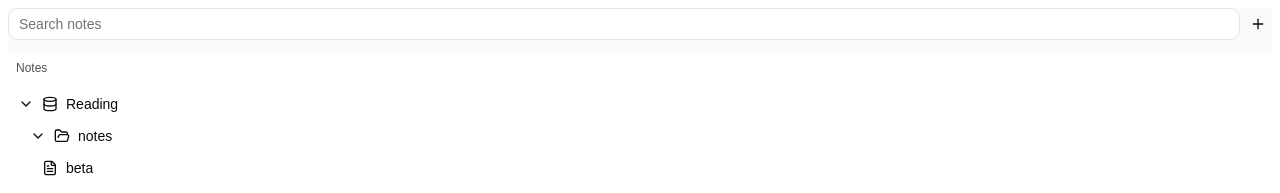
Test: NotesSidebar › collapses folders when there is no search query
This screenshot has width=1280, height=193.
Expected: the link "beta" is shown, [42,160,93,176]
Click the button "notes".
click(95, 136)  # box [8,120,1272,152]
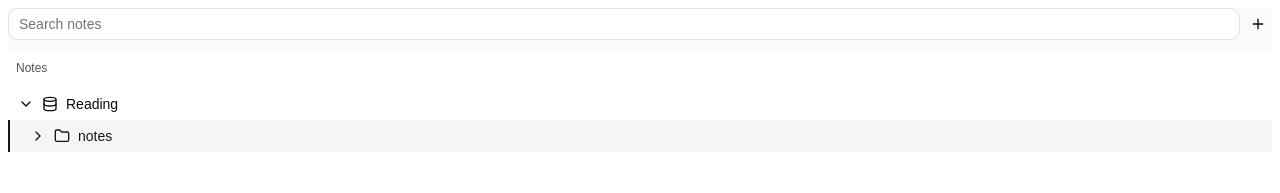
Now the link "beta" is gone
